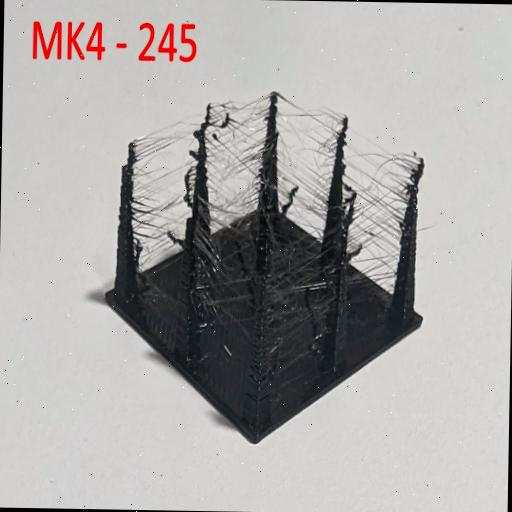stringing: (203, 175, 266, 367), (136, 109, 199, 280), (275, 225, 334, 397), (206, 88, 272, 235), (278, 91, 341, 243), (348, 128, 418, 264), (350, 155, 417, 294)
